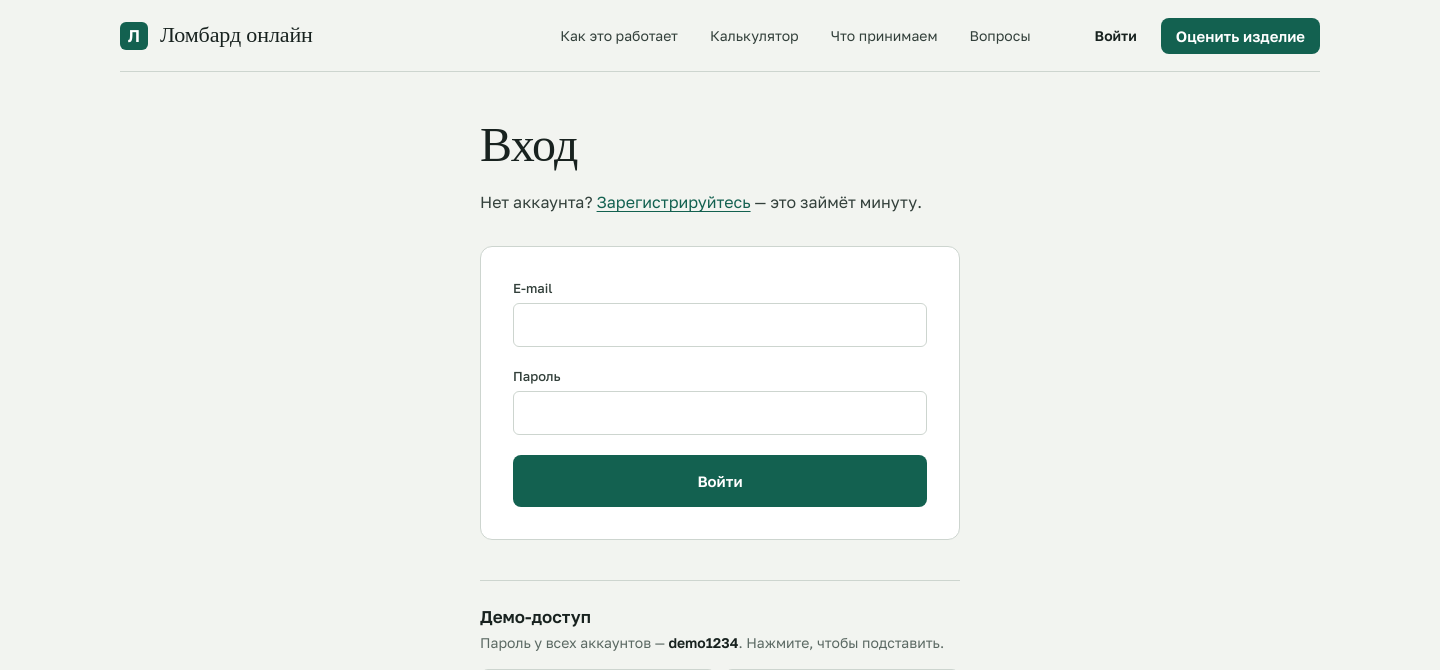
Scenario: Auth › shows validation and server errors on login
Click the button "Войти" at (720, 481), box [513, 455, 927, 507]
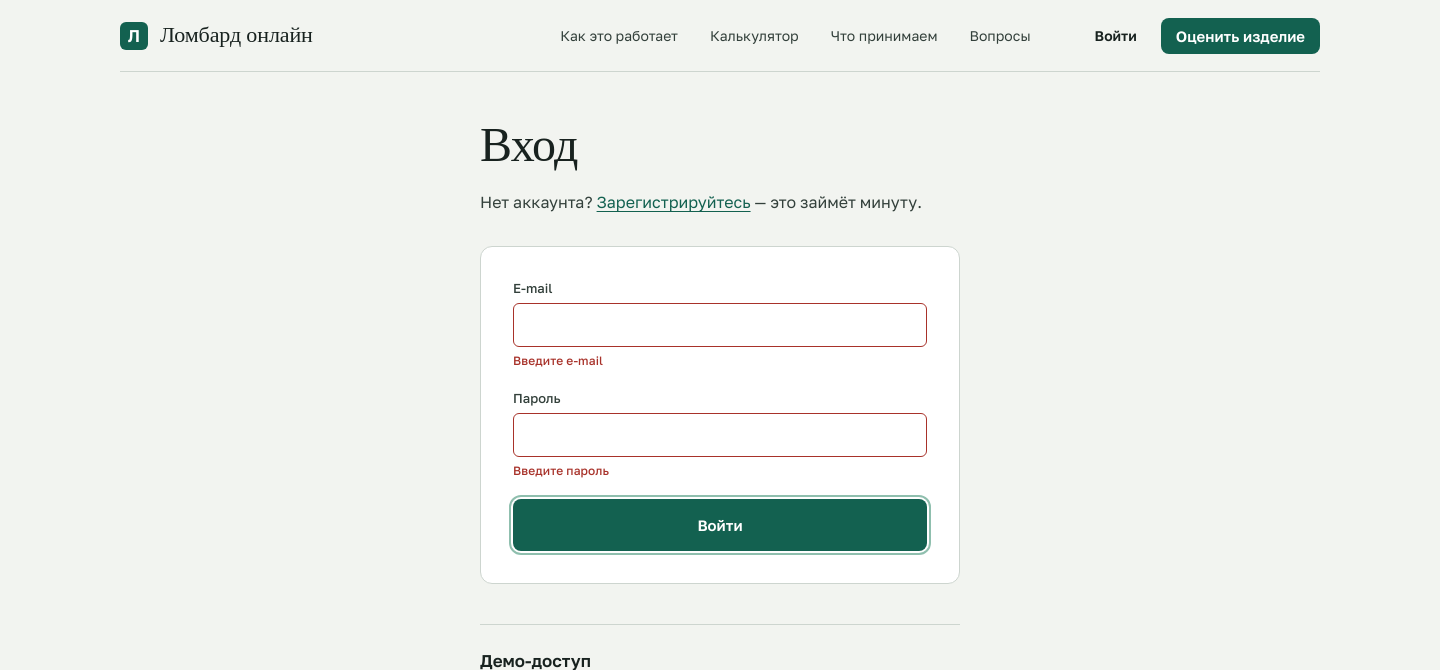
Type "client@lombard.kz" into the field labelled "E-mail" at (720, 325), box [513, 303, 927, 347]
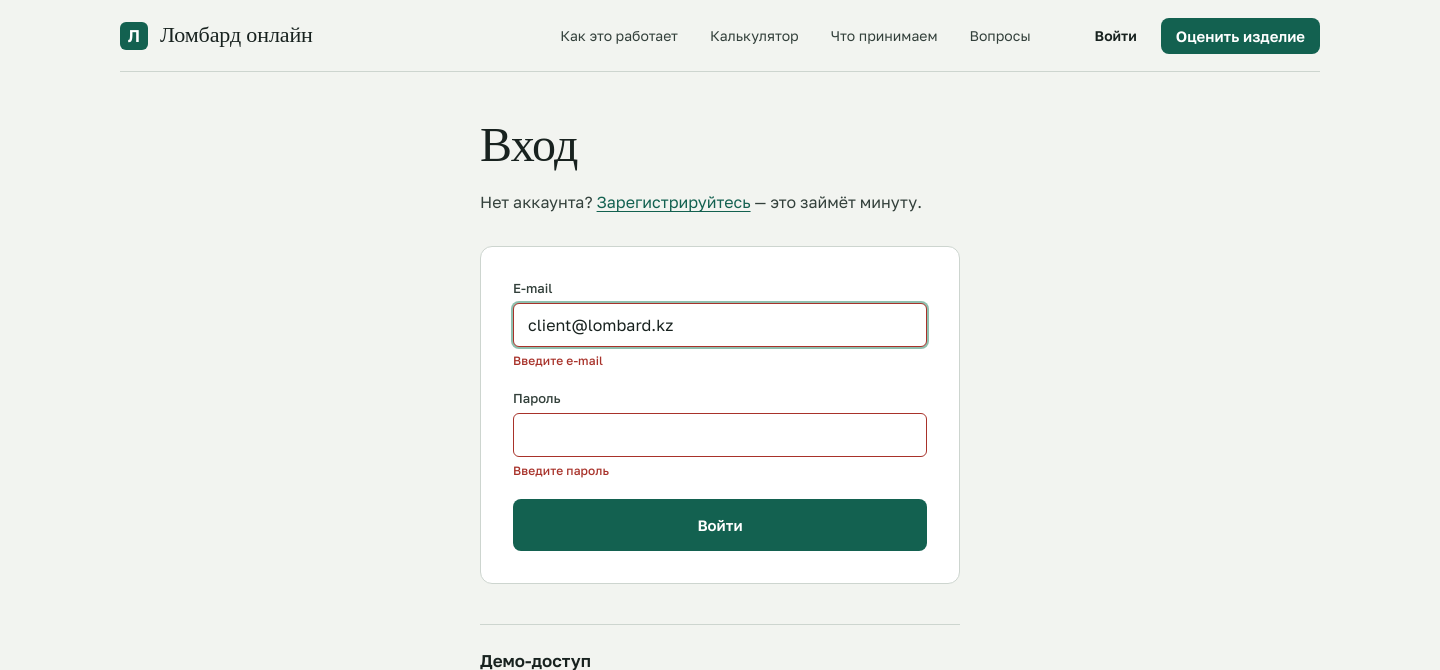
Type "wrong123" into the password field labelled "Пароль" at (720, 435), box [513, 413, 927, 457]
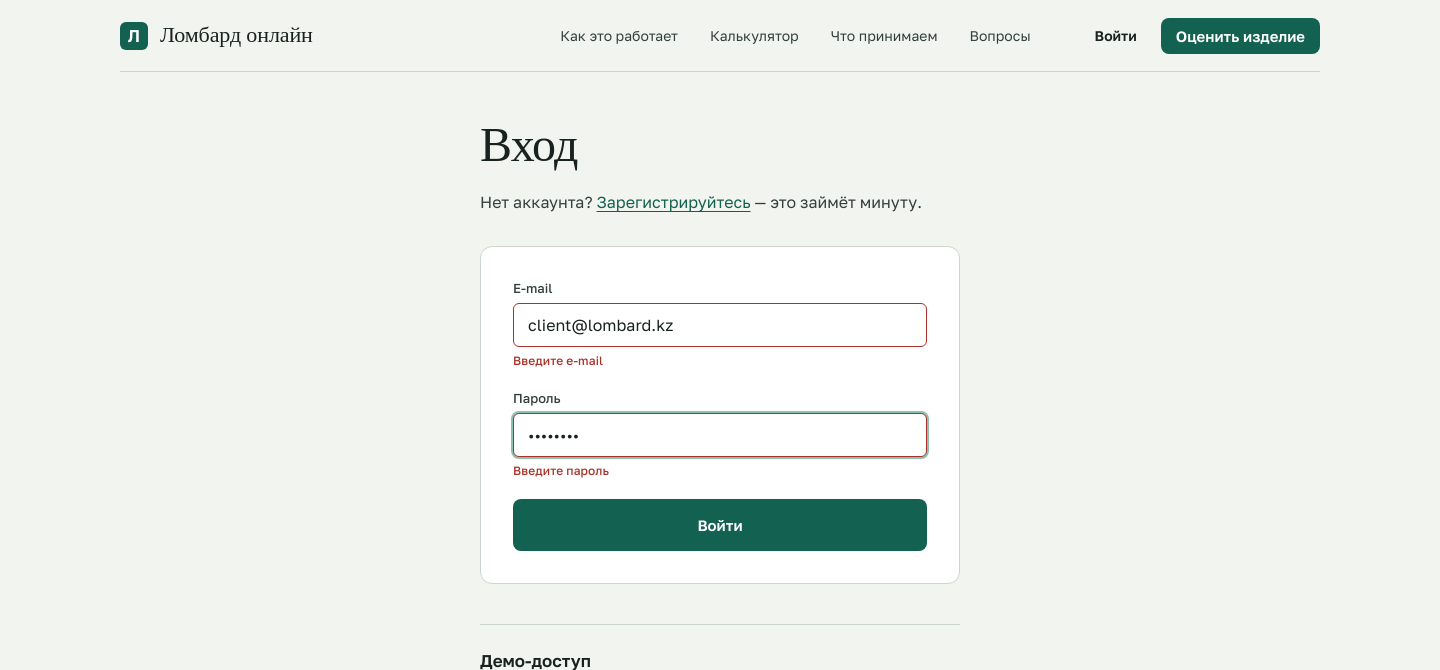
Click the button "Войти" at (720, 525), box [513, 499, 927, 551]
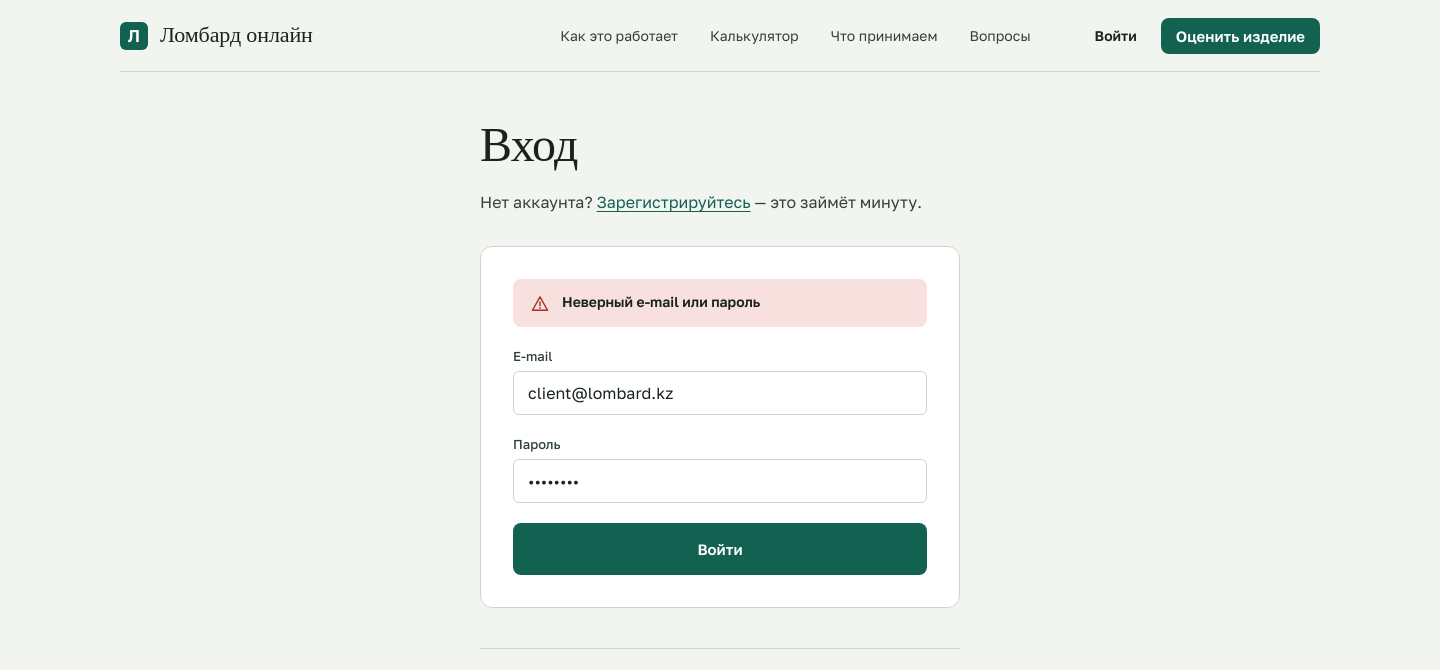
Result: the message reads "Неверный e-mail или пароль" at [562, 293, 760, 310]
